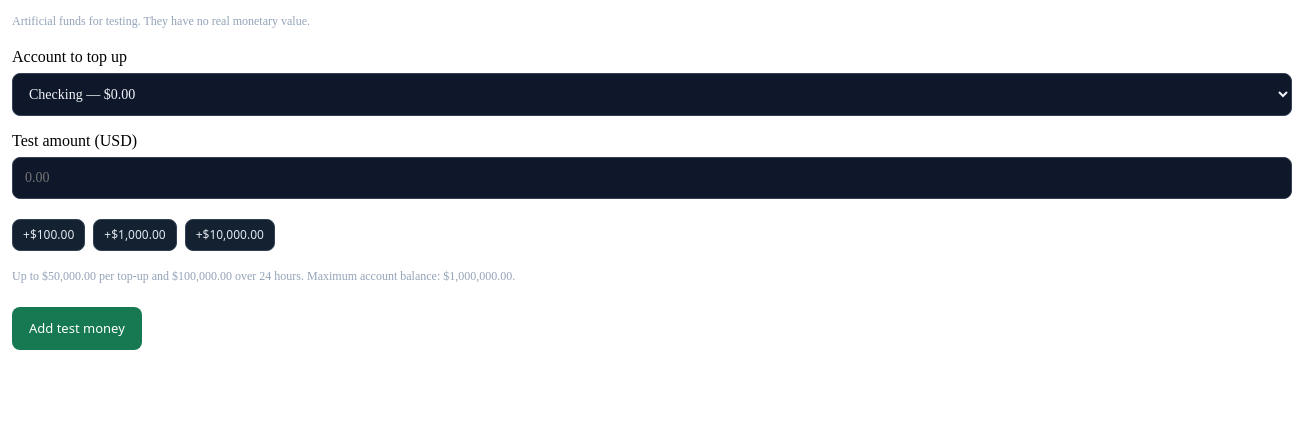
it: blocks synchronous double submissions and records the exact input amount
Type "19.99" into the field labelled "Test amount (USD)" at [652, 178], box 12,157 -> 1292,199
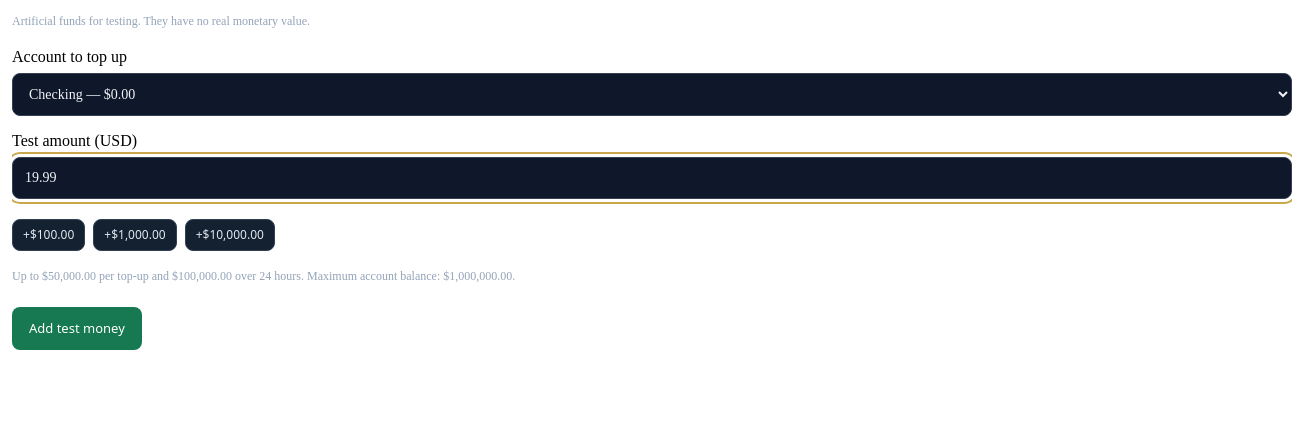
Submit the form named "Add test money"
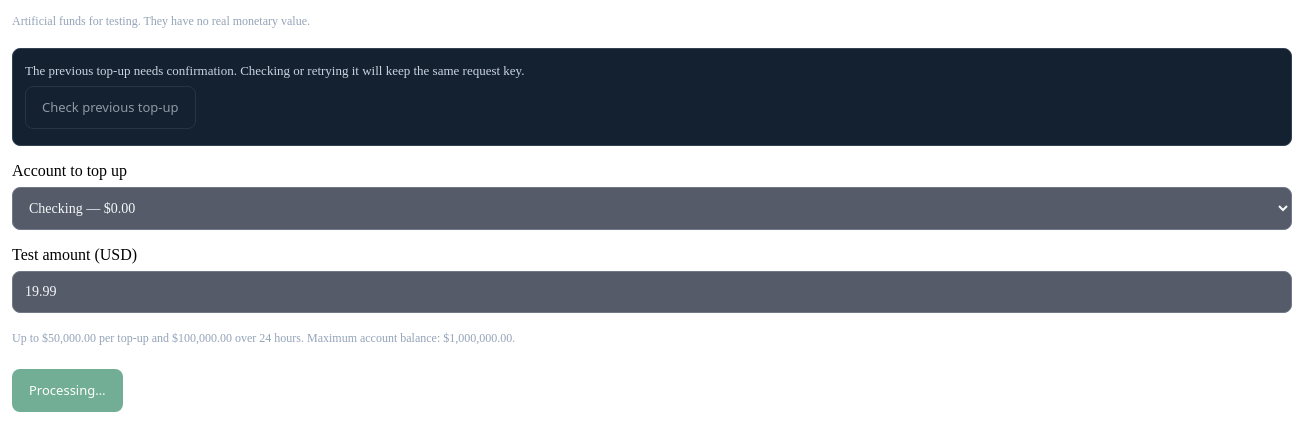
Submit the form named "Add test money"
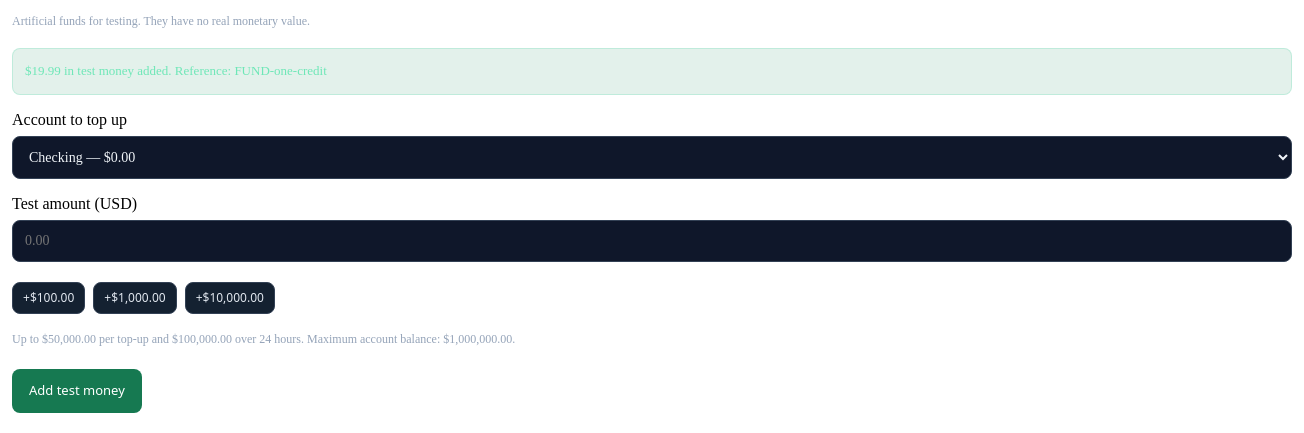
Check: the text "$19.99 in test money added. Reference: FUND-one-credit" is shown, box 12,48 -> 1292,95
